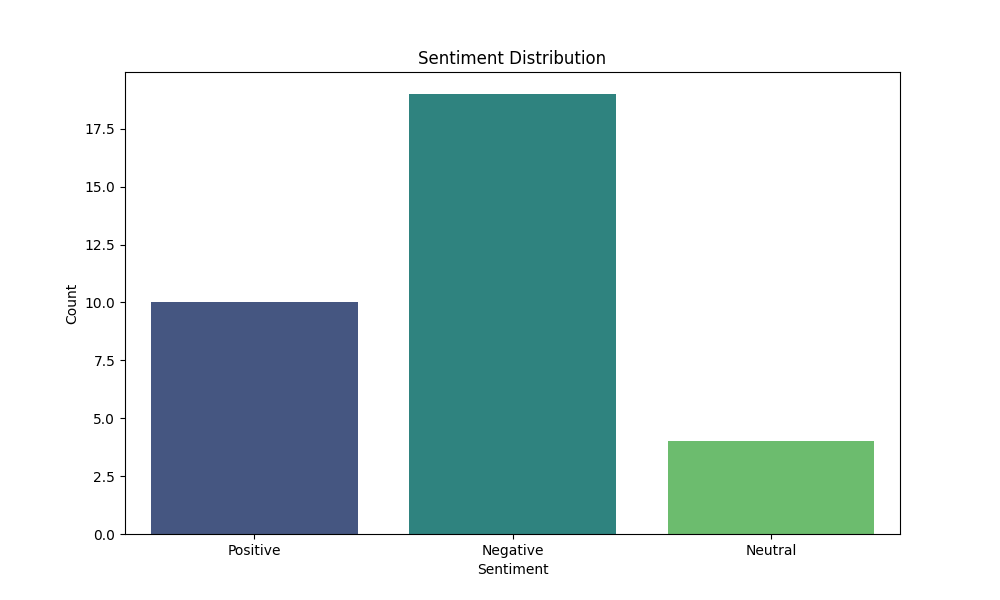

Layout of this report page (visuals, bound fields, positions):
{"tool":"tableau","page":{"name":"Dashboard 1","canvas":[1000,1000],"units":"permille","ordinal":0},"visuals":[{"type":"worksheet","title":"Sheet 2","mark":"Bar","rows":["count"],"cols":["date","date"],"box":[1.8,480.7,991,499.4]}]}

Visuals, with their boxes on the dashboard's canvas, which has no fixed pixel size, in thousandths of its width and height (x1, y1, x2, y2). These are canvas units, not pixel positions in the 1000x600 screenshot, which may show the page scaled, cropped or inside an application window:
"Sheet 2" worksheet (Bar marks): detection(2, 481, 993, 980)
